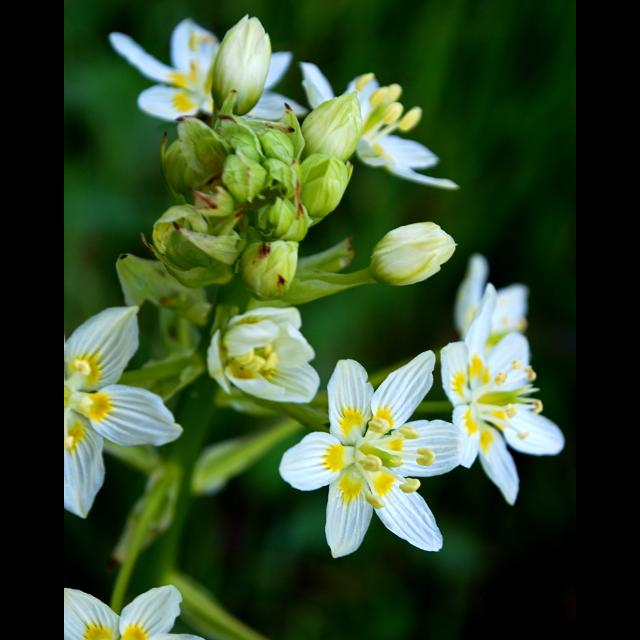Flower: (281, 346, 469, 568), (437, 288, 558, 502), (64, 307, 182, 521), (102, 19, 300, 122), (298, 59, 454, 187), (64, 588, 204, 640)
